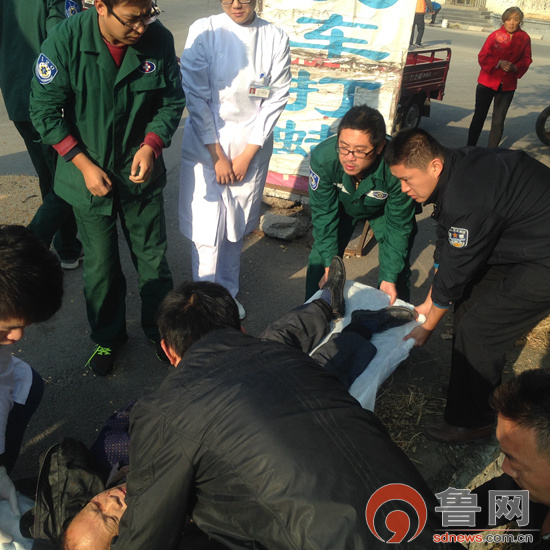fall: (278, 278, 449, 436)
